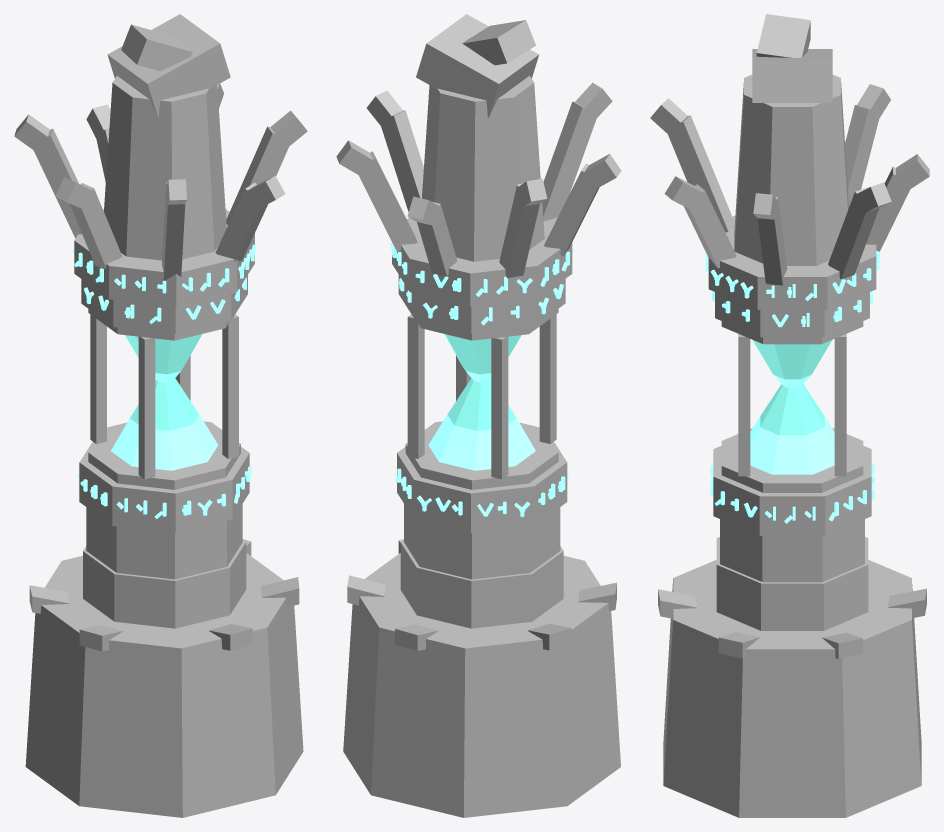
The model's file is b6_hourglass_pillar.gltf.
3 renders of one model, left to right at view 1: azimuth 30°, elevation 25°; view 2: azimuth 150°, elevation 25°; view 3: azimuth 270°, elevation 25°, orthographic.
Visible parts, largest first — view 1: pillar_foundation, pillar_capital, pillar_hourglass, pillar_base, pillar_band_high, pillar_band_low; view 2: pillar_foundation, pillar_capital, pillar_hourglass, pillar_base, pillar_band_high, pillar_band_low; view 3: pillar_foundation, pillar_capital, pillar_hourglass, pillar_base, pillar_band_high, pillar_band_low.
Boxes of the visible parts, x1=… form: pillar_foundation: x1=25, y1=539, x2=303, y2=817; pillar_capital: x1=14, y1=14, x2=307, y2=279; pillar_hourglass: x1=88, y1=309, x2=240, y2=489; pillar_base: x1=83, y1=504, x2=246, y2=628; pillar_band_high: x1=72, y1=209, x2=256, y2=333; pillar_band_low: x1=78, y1=442, x2=251, y2=533; pillar_foundation: x1=343, y1=539, x2=620, y2=817; pillar_capital: x1=336, y1=14, x2=621, y2=278; pillar_hourglass: x1=405, y1=309, x2=558, y2=489; pillar_base: x1=400, y1=504, x2=563, y2=628; pillar_band_high: x1=390, y1=217, x2=573, y2=333; pillar_band_low: x1=395, y1=442, x2=568, y2=533; pillar_foundation: x1=658, y1=560, x2=926, y2=817; pillar_capital: x1=650, y1=14, x2=929, y2=285; pillar_hourglass: x1=721, y1=321, x2=863, y2=492; pillar_base: x1=716, y1=519, x2=868, y2=630; pillar_band_high: x1=705, y1=216, x2=879, y2=337; pillar_band_low: x1=710, y1=445, x2=874, y2=535.
Size of the model in its own units: 1.64 by 4.64 by 1.6.
